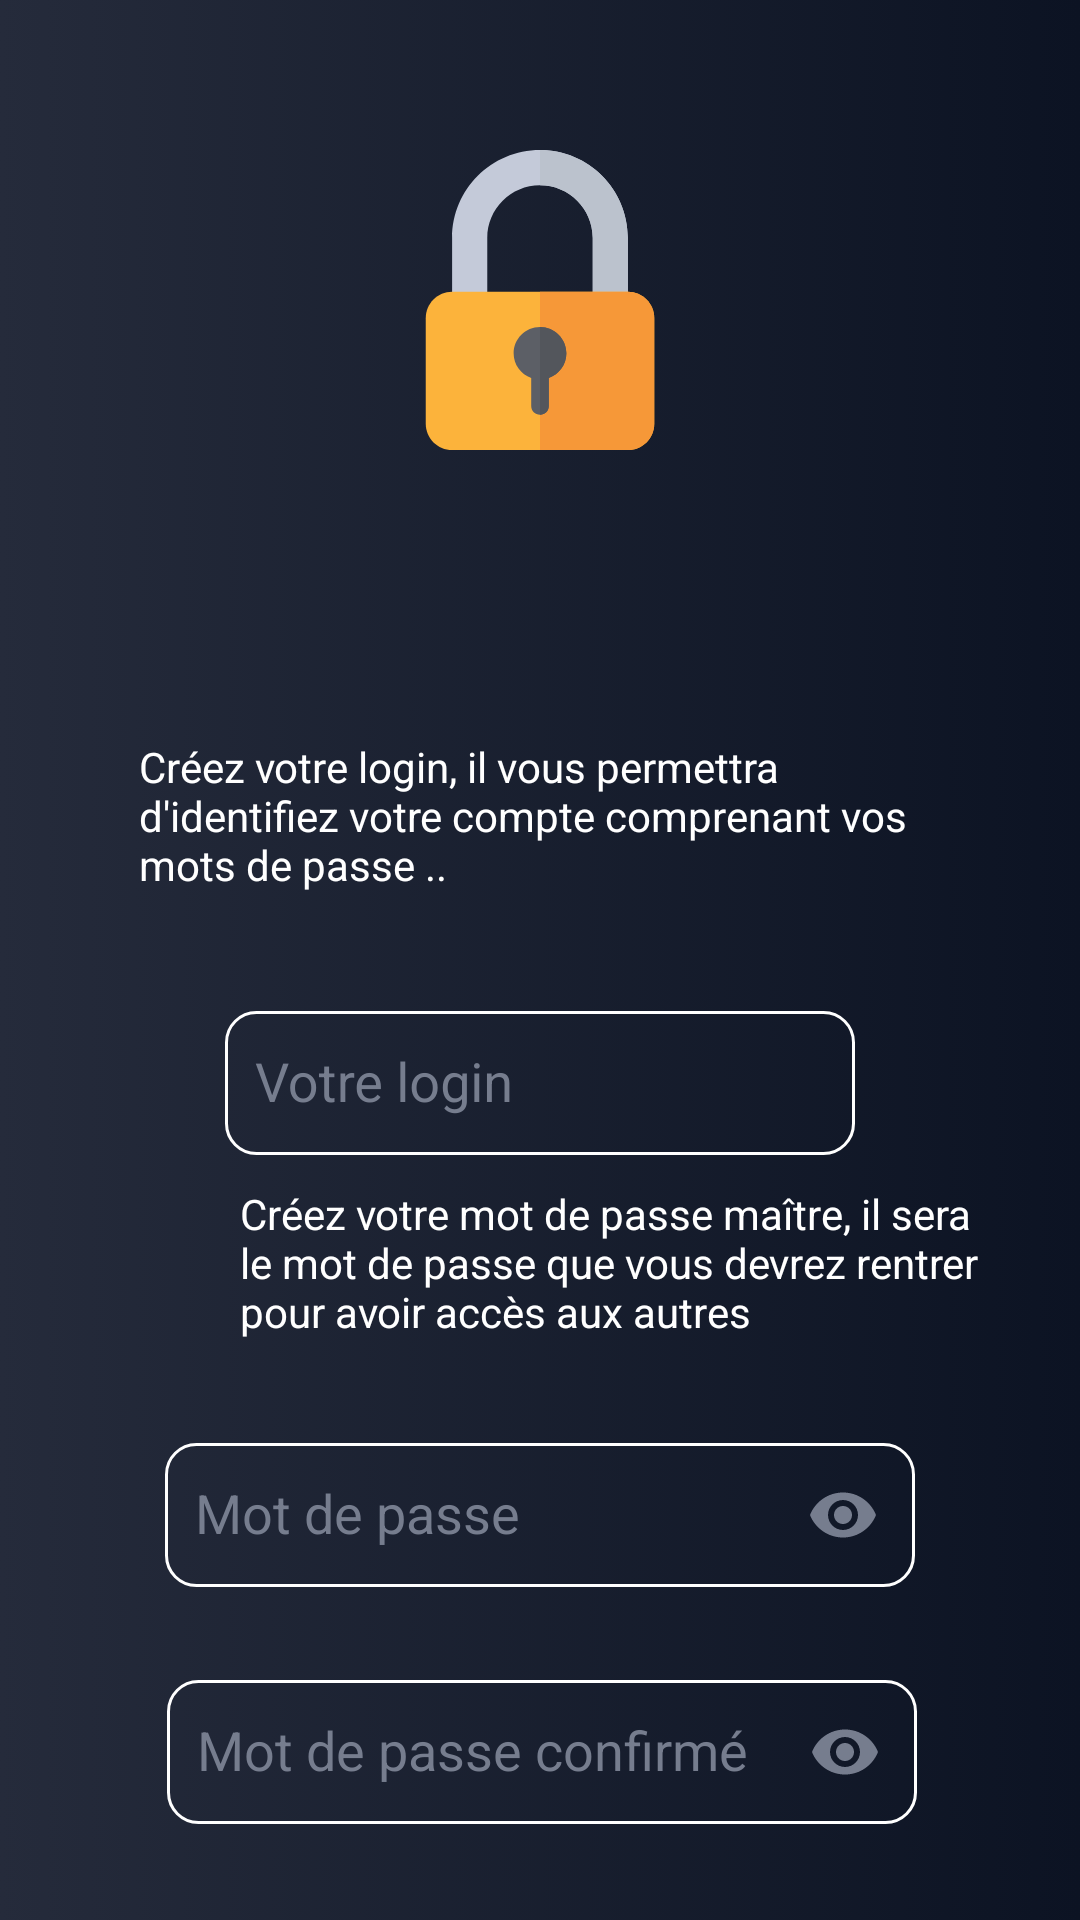

Icon click points for this 1080 × 1920 phone screenshot, format [x,y]:
padlock: [540,300]
